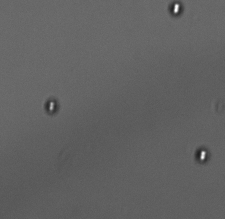Living Cell: (41, 97, 61, 115), (195, 147, 211, 163), (168, 1, 184, 15)
